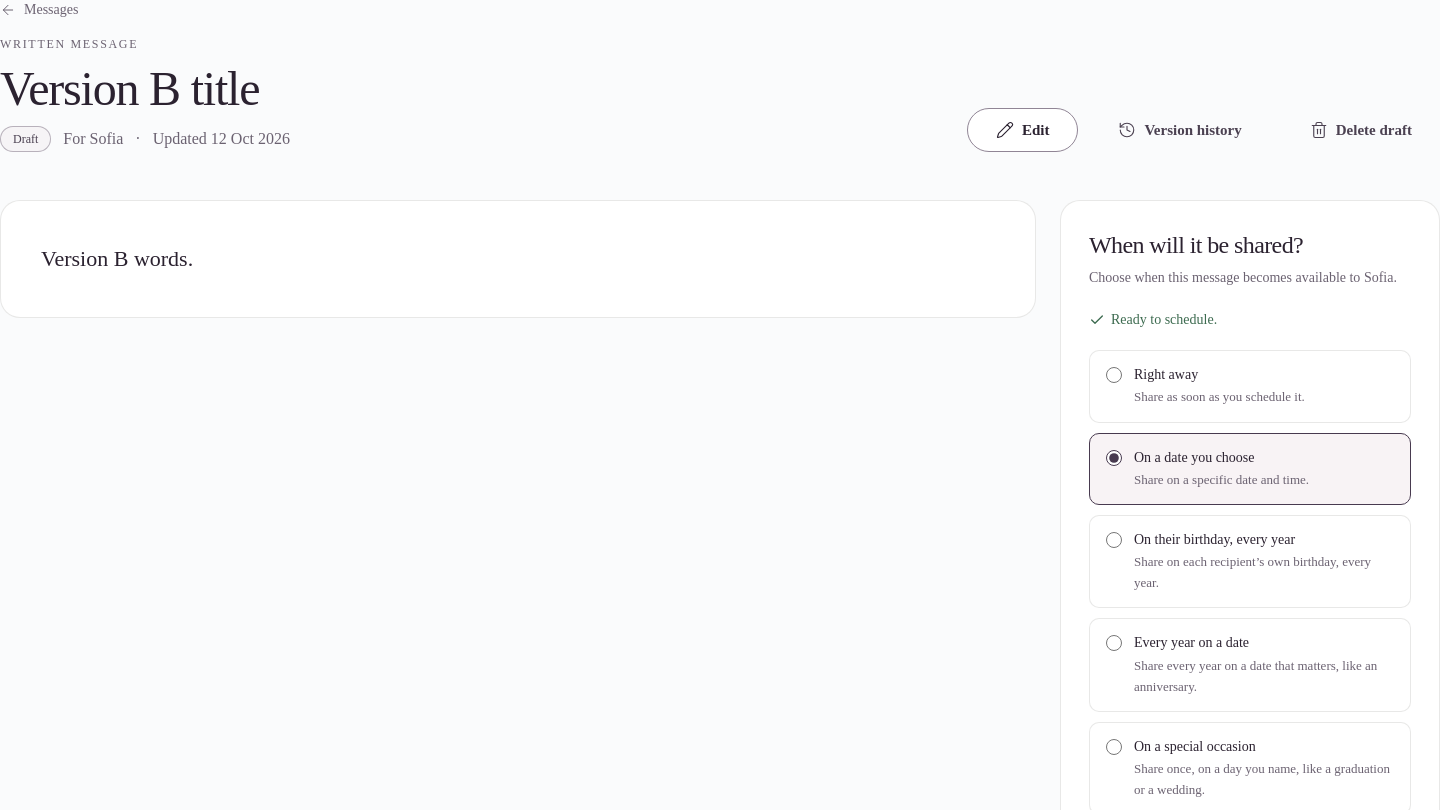
Scenario: Version history › lists versions newest first with Created / Edited labels and marks the current one
The image size is (1440, 810).
Click the button "Version history": [1180, 130] box [1090,108,1270,152]
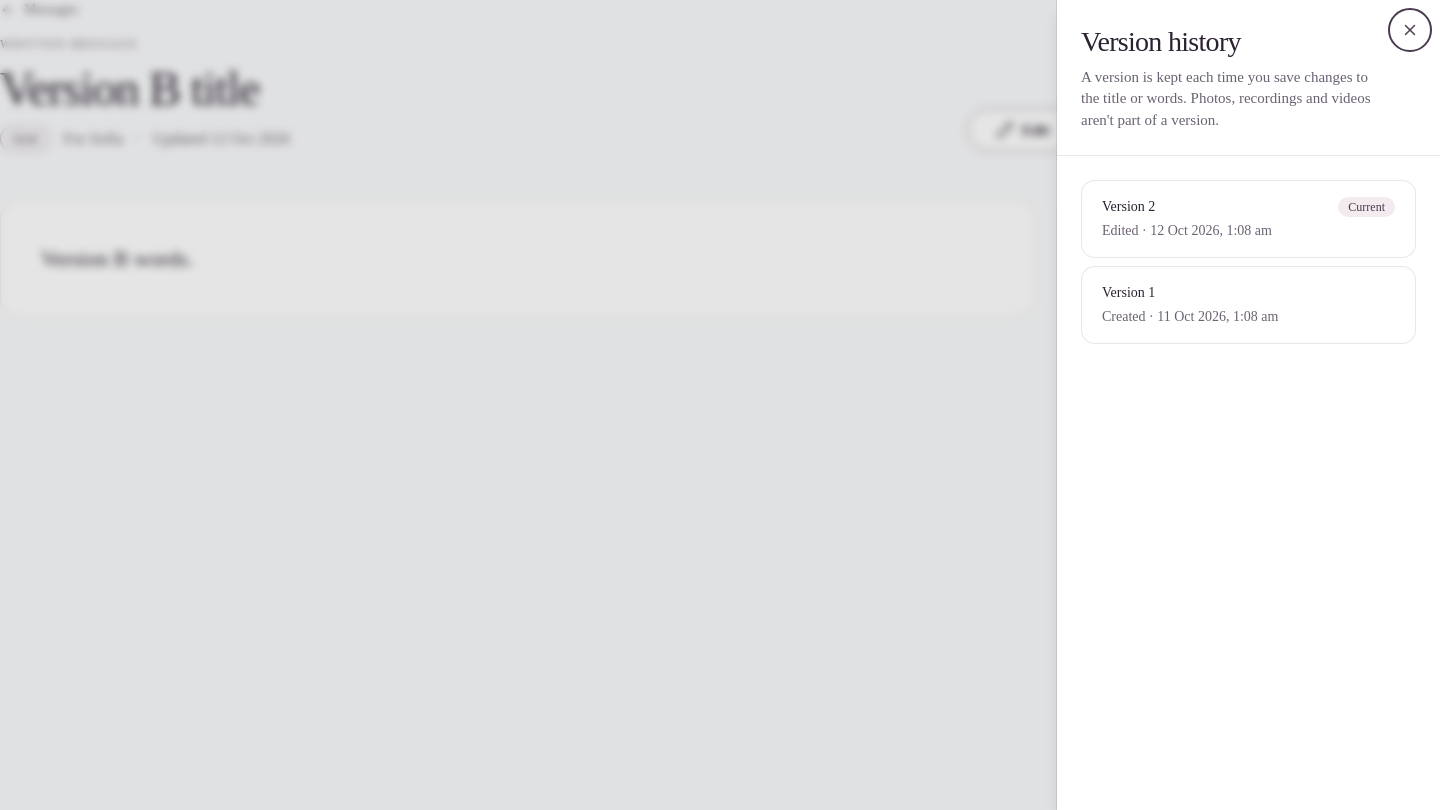
Expected: the list item "Version 1 Created · 11 Oct 2026, 1:08 am" does not show "Current", [1081,266,1416,344]
Expected: the list item "Version 2 Current Edited · 12 Oct 2026, 1:08 am" is shown, [1081,180,1416,258]
Expected: the list item "Version 1 Created · 11 Oct 2026, 1:08 am" is shown, [1081,266,1416,344]
